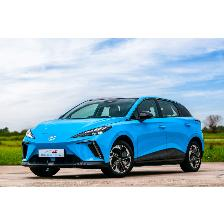EV: (23, 97, 206, 178)
